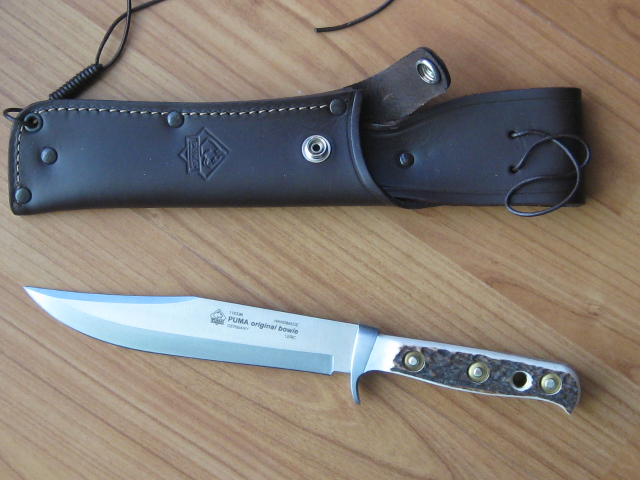knife: (16, 276, 381, 414)
